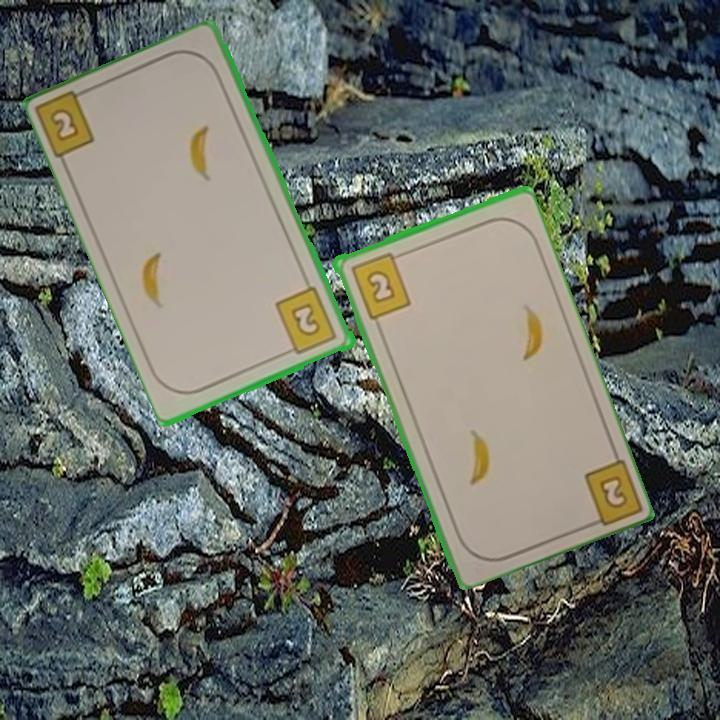2b: (272, 283, 340, 358), (35, 84, 98, 163), (346, 249, 414, 322), (579, 453, 642, 531)
